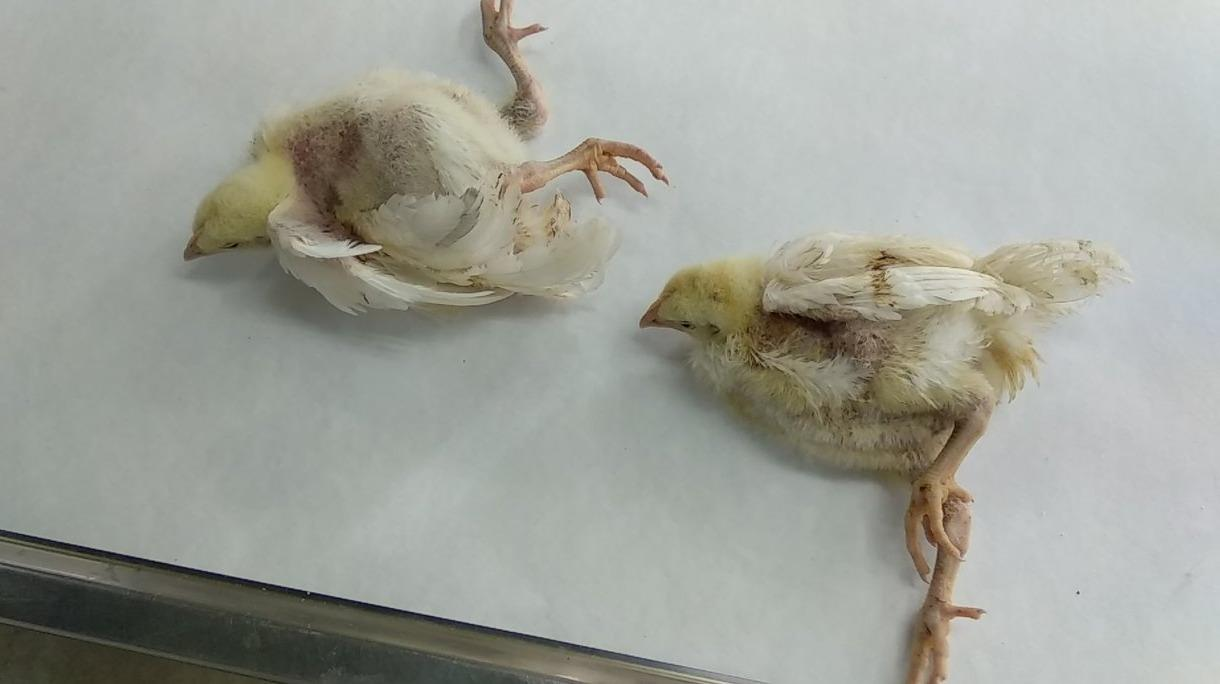AbNormal: (665, 227, 1112, 684), (133, 40, 680, 318)
